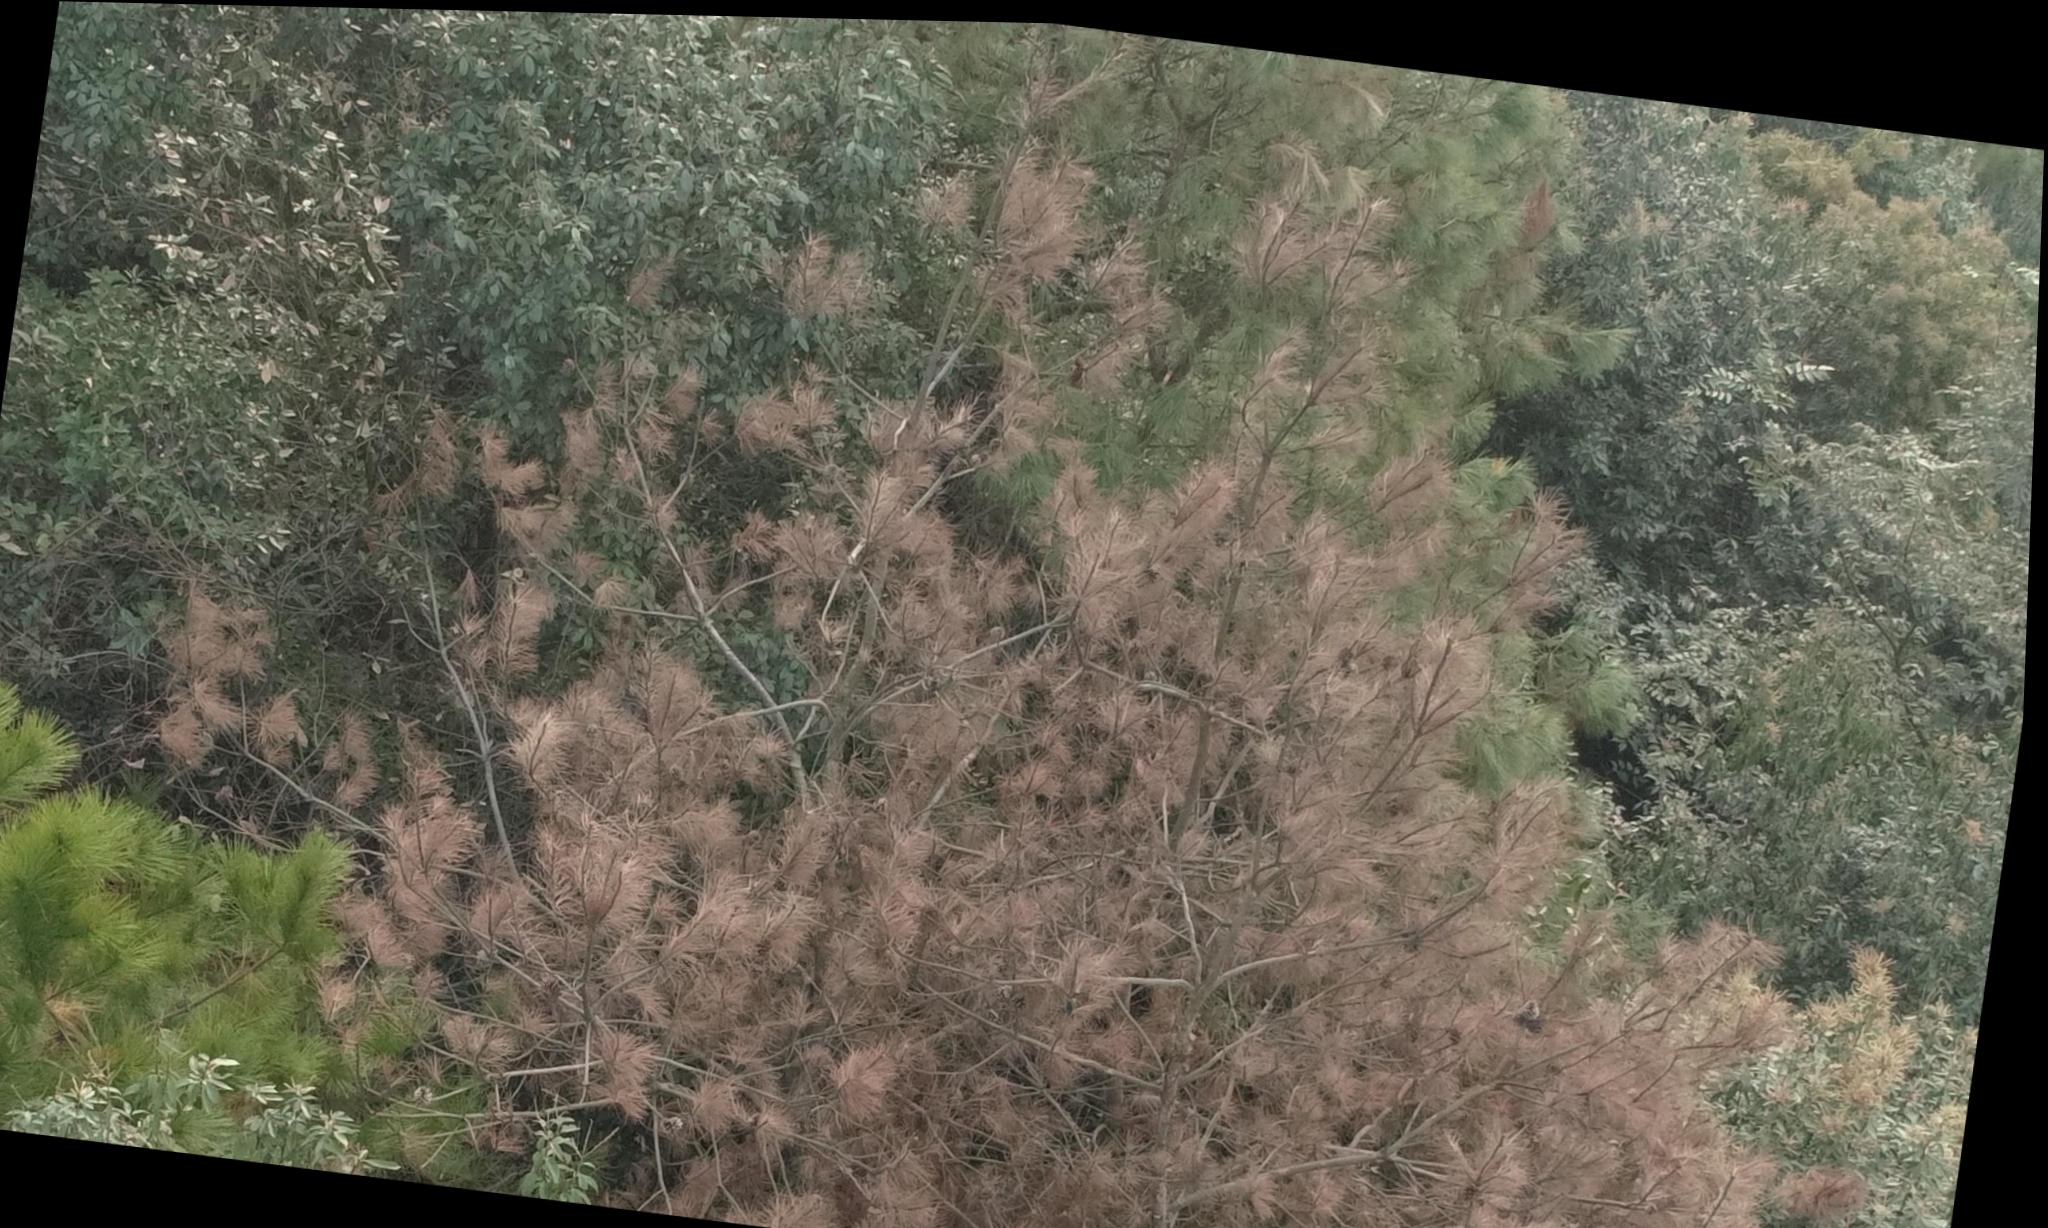heavy: (145, 110, 1992, 1228)
